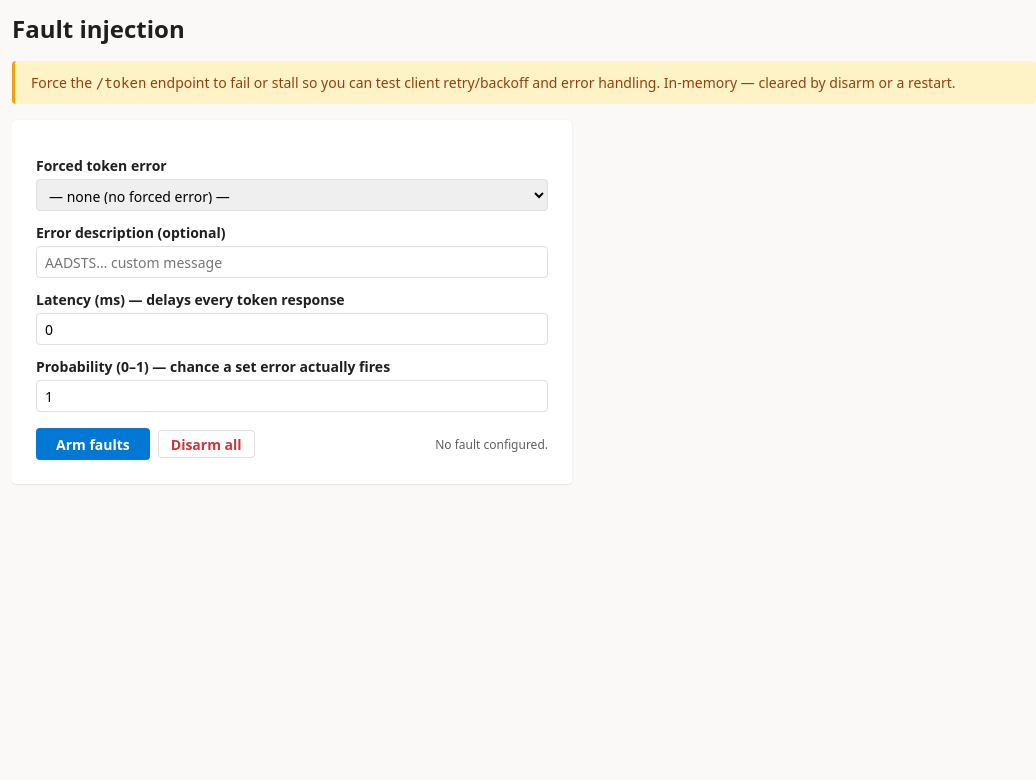
Test: Faults view › disarms all faults
The image size is (1036, 780).
Click the button "Disarm all": point(206, 444) [158,430,255,458]
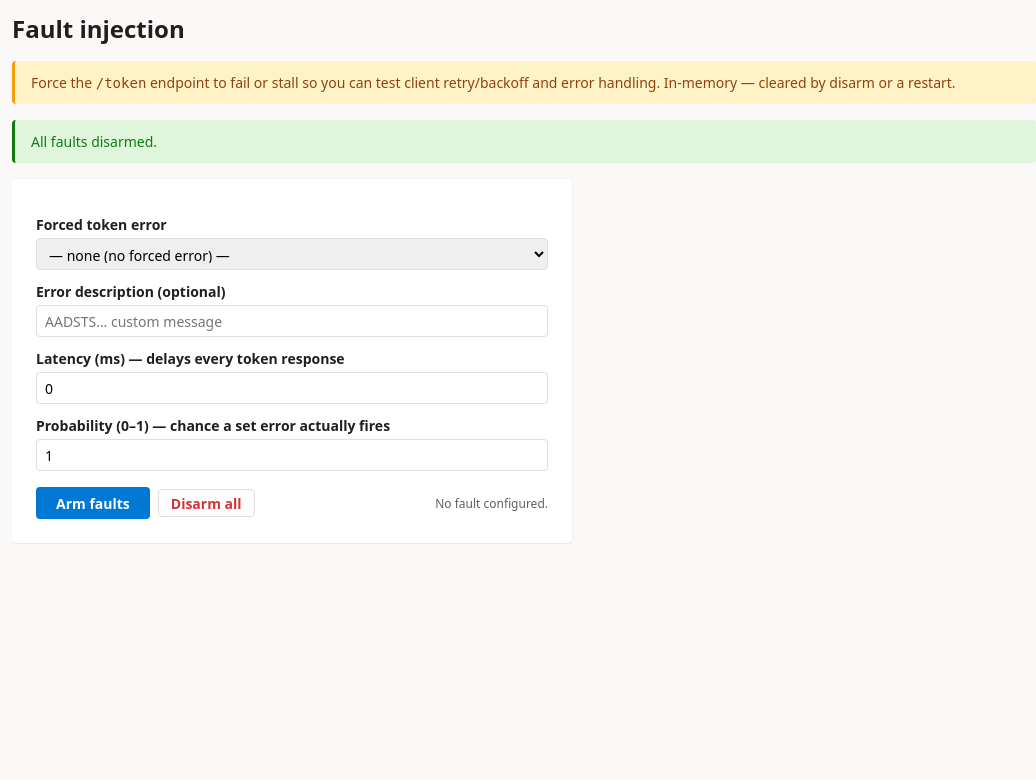
Check: the text "All faults disarmed." is shown, box [12,120,1035,163]
